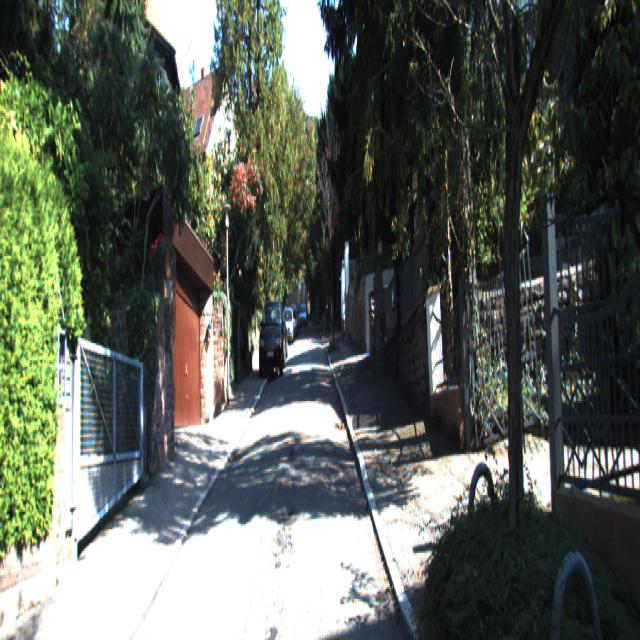Car: (258, 299, 285, 382), (282, 307, 296, 347)
